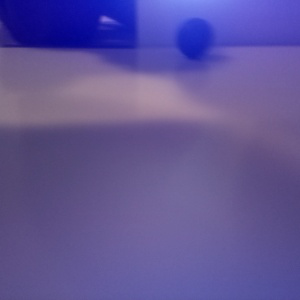dead_ball: (176, 18, 213, 57)
